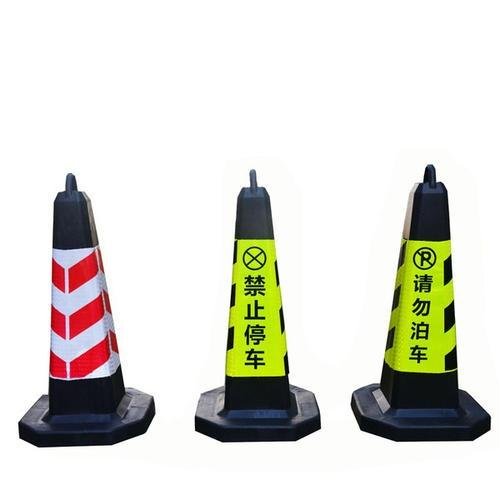cone_barrel: (360, 171, 477, 434), (32, 174, 146, 438), (204, 179, 314, 438)
